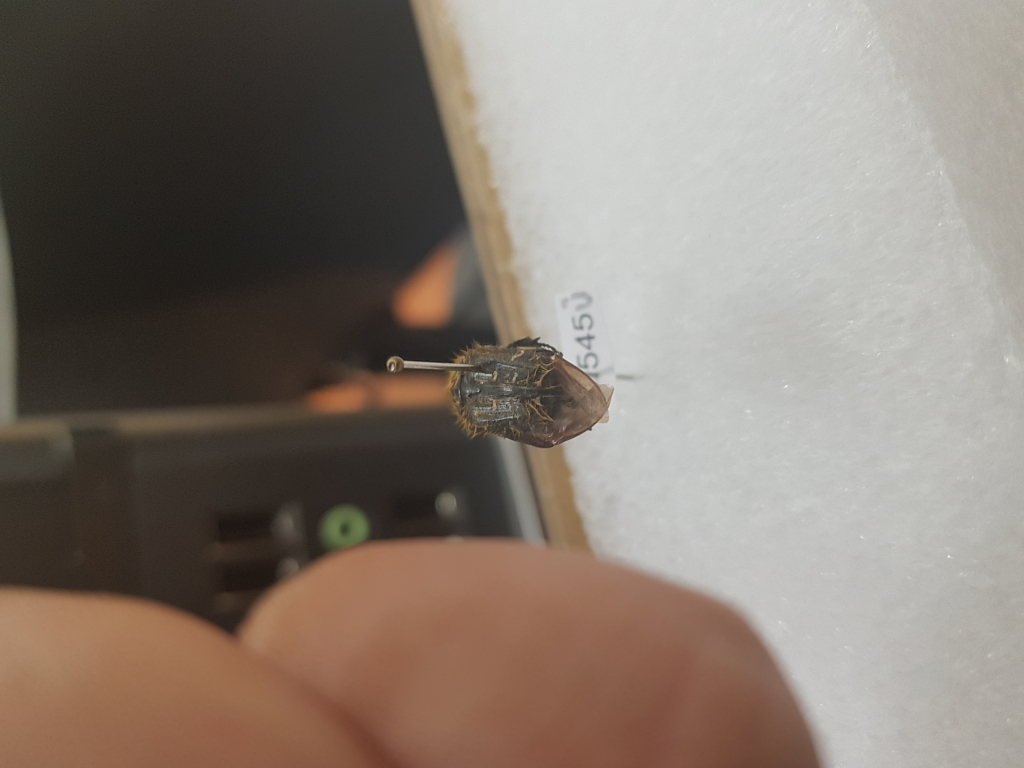Tropinota_hirta: (437, 322, 619, 456)
